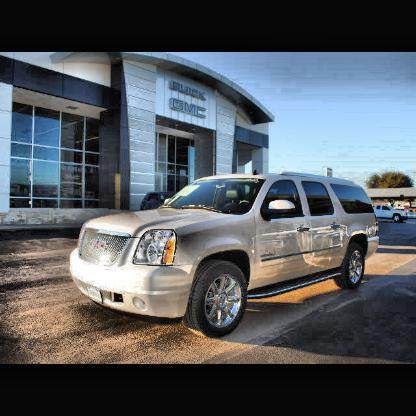GMC Yukon Hybrid SUV 2012: (68, 170, 382, 335)
